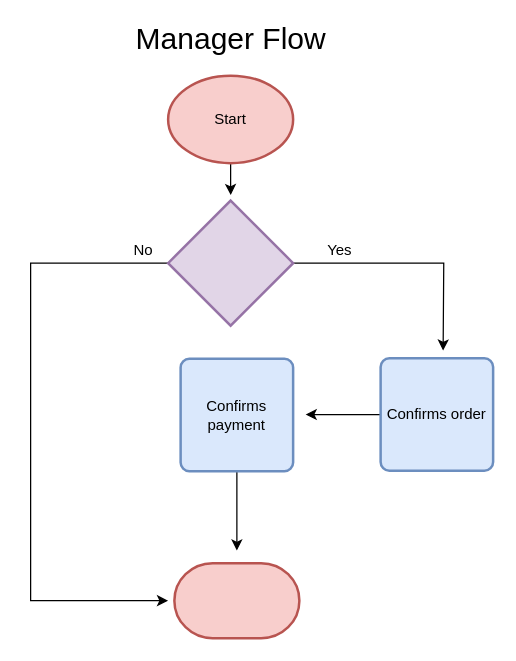
Some shapes in this 516 by 661 pixel diagram are drawn without their labels. The centre of each missing label's shape, as x and y in pixels:
"End" belongs at point (236, 600).
"Order received?" belongs at point (230, 262).
